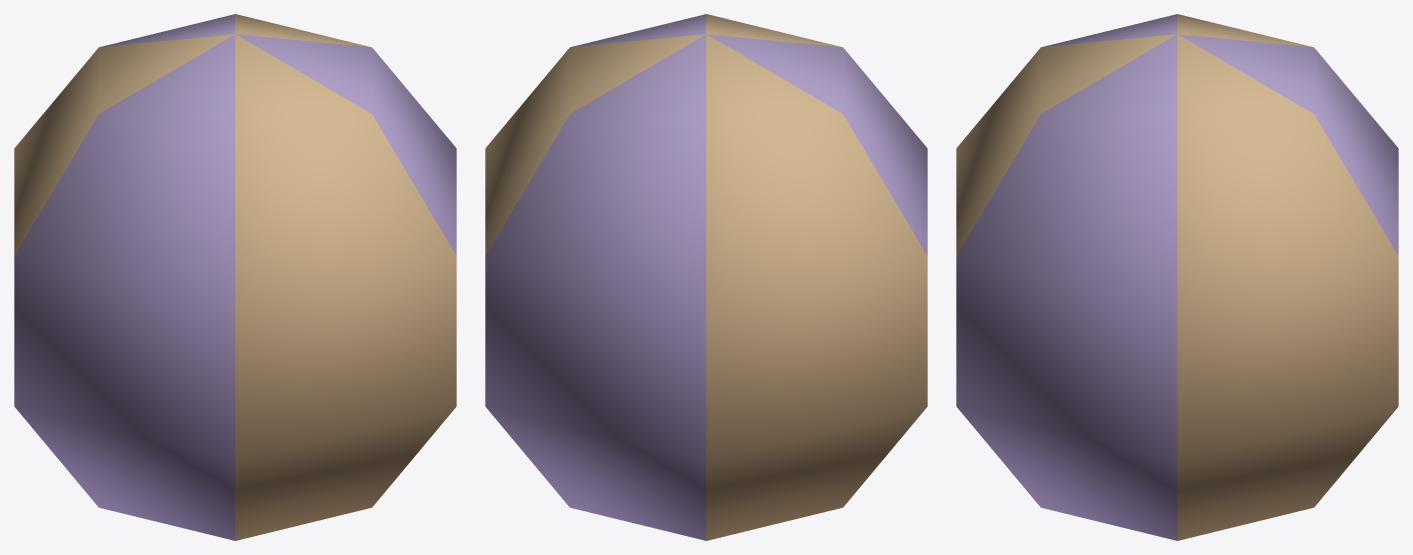
Rendered from toy-ball.glb.
The picture shows the model from 3 angles, left to right: view 1: azimuth 30°, elevation 25°; view 2: azimuth 150°, elevation 25°; view 3: azimuth 270°, elevation 25°; orthographic projection.
Visible parts, largest first — view 1: toy-ball; view 2: toy-ball; view 3: toy-ball.
Boxes of the visible parts, box(x1,y1,x2,y2) form: toy-ball: box(14, 14, 456, 540); toy-ball: box(485, 14, 927, 540); toy-ball: box(956, 14, 1398, 540).
Size of the model in its own units: 0.3043 by 0.32 by 0.2636.
